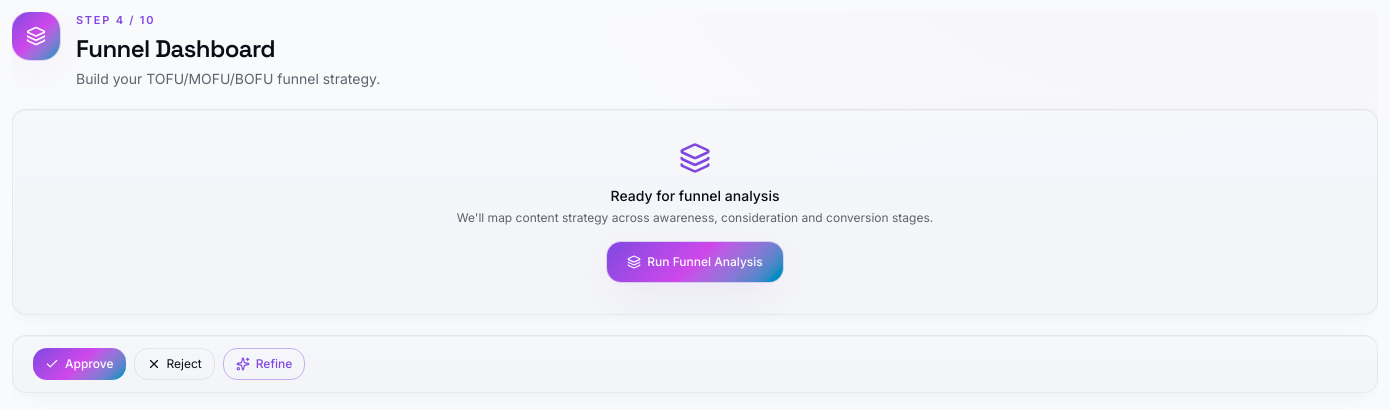
Test: Step4FunnelDashboard — per-persona CTA / KPI / budget_share (QA round 3) › hides the additive chips for runs without them
What coordinates should you click on to do the following:
click the button "Run Funnel Analysis"
I would click on:
 (695, 262)
Its box is [607, 242, 783, 282].
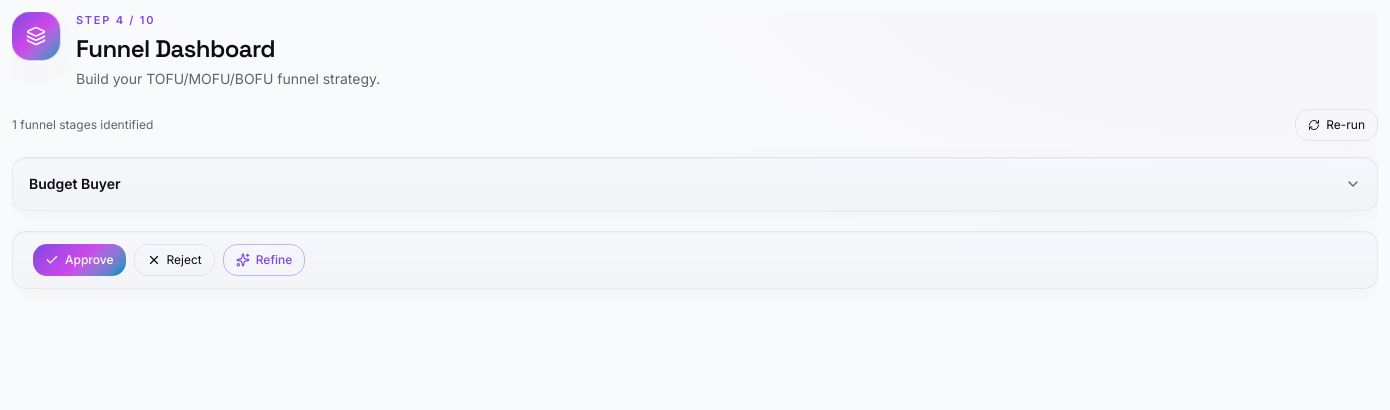
What coordinates should you click on to do the following:
click the button with test id "funnel-persona-toggle"
I would click on:
 (75, 183)
Its box is [13, 158, 1377, 210].
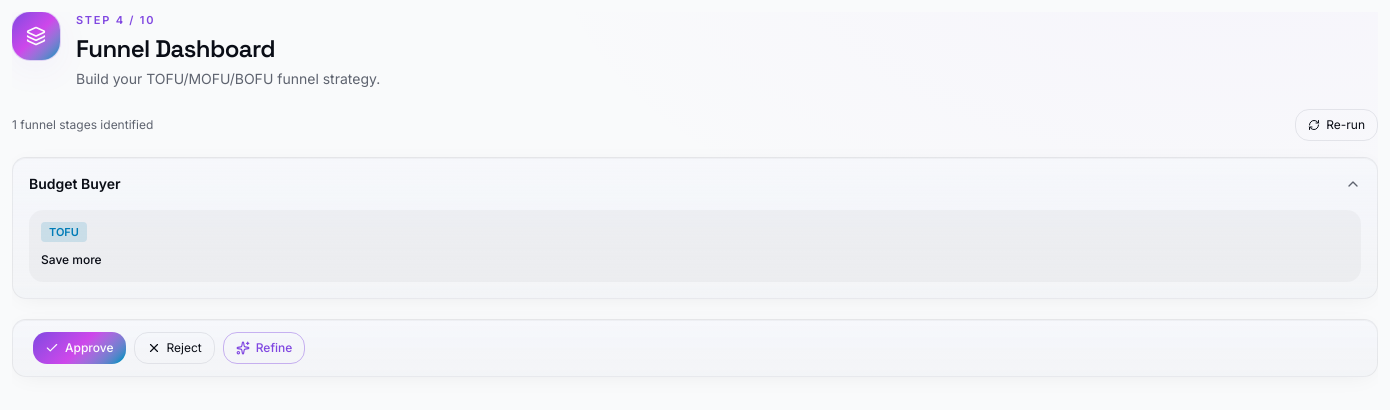
Expected: the element with test id "funnel-persona-details" is shown, [13, 210, 1377, 298]
